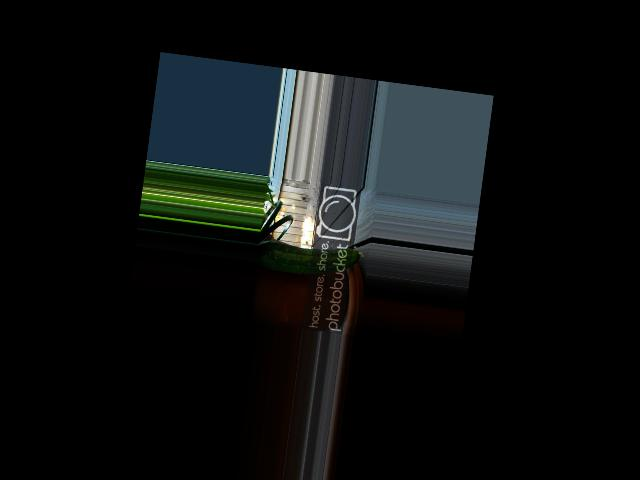cucumber: (256, 236, 365, 281)
